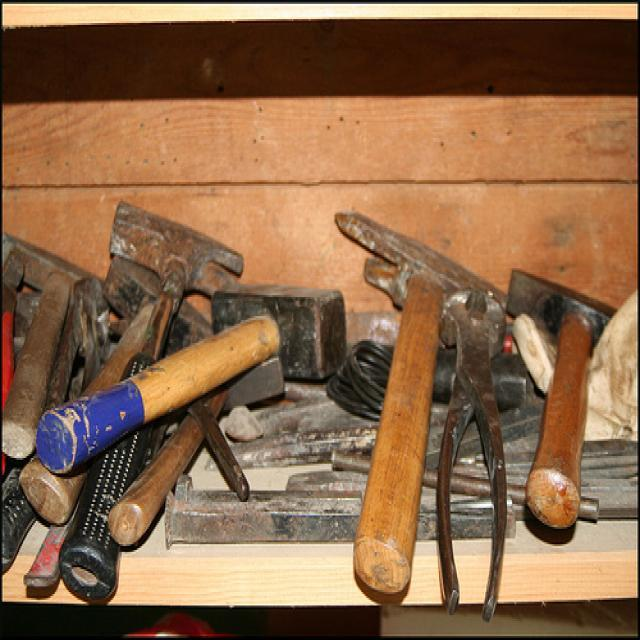hammer: (48, 190, 248, 604), (29, 264, 362, 479), (503, 249, 624, 568)
pliers: (434, 275, 516, 626)
